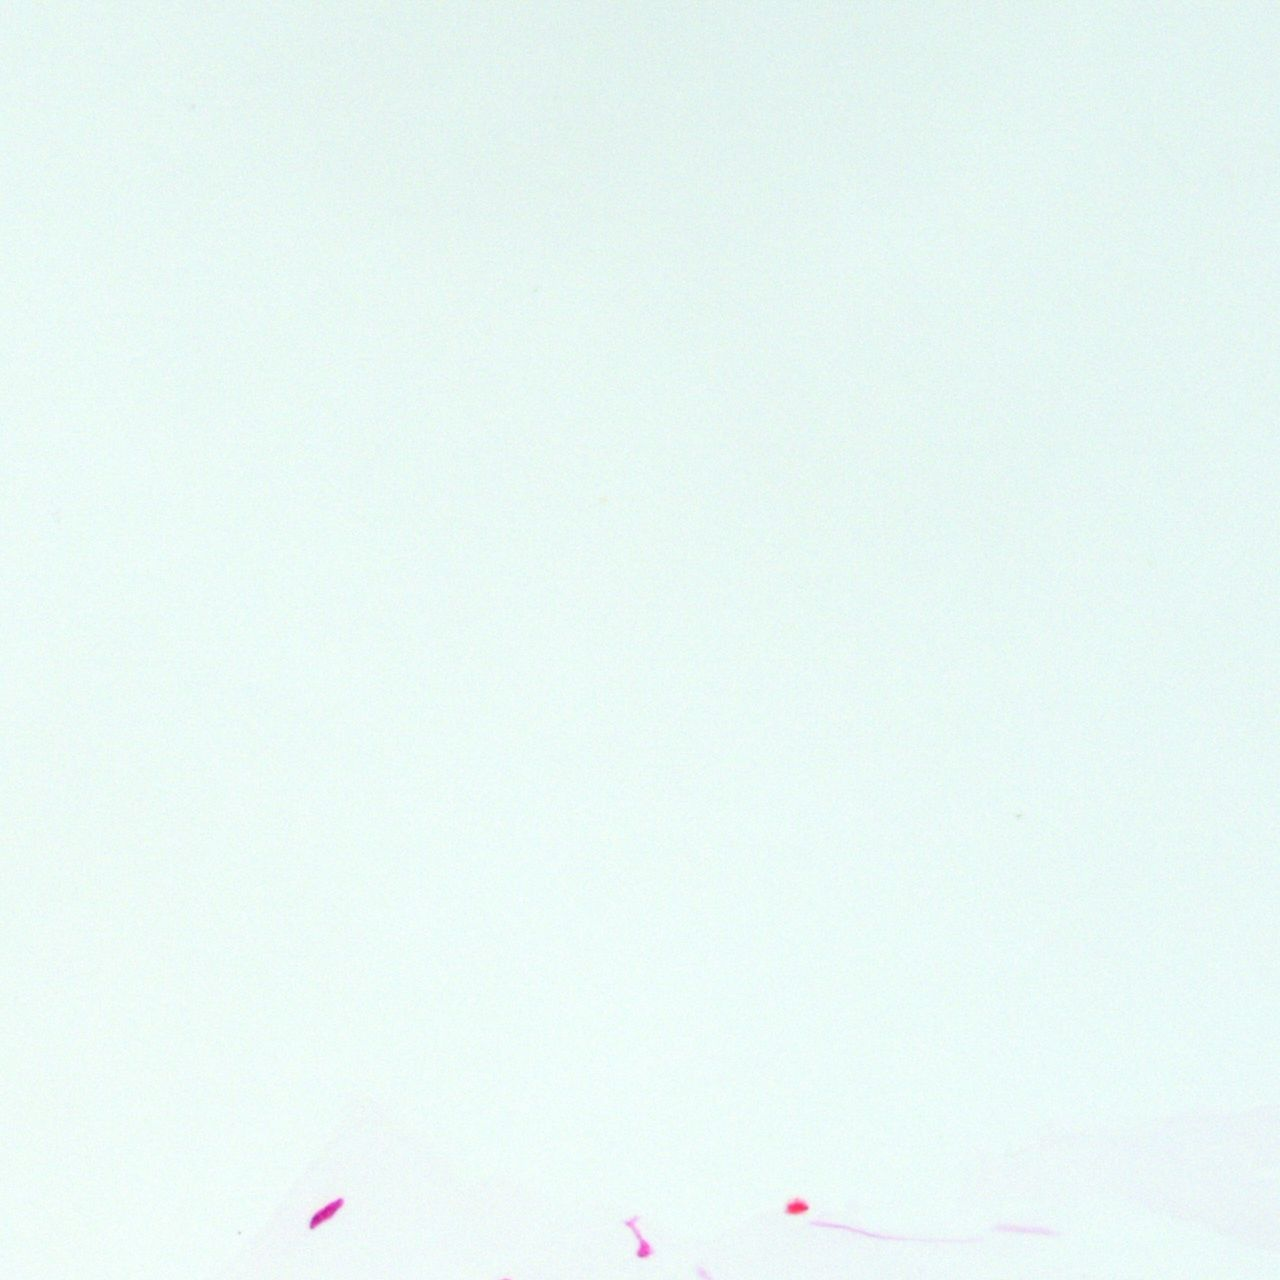nucleus-FG: (308, 1194, 346, 1228)
